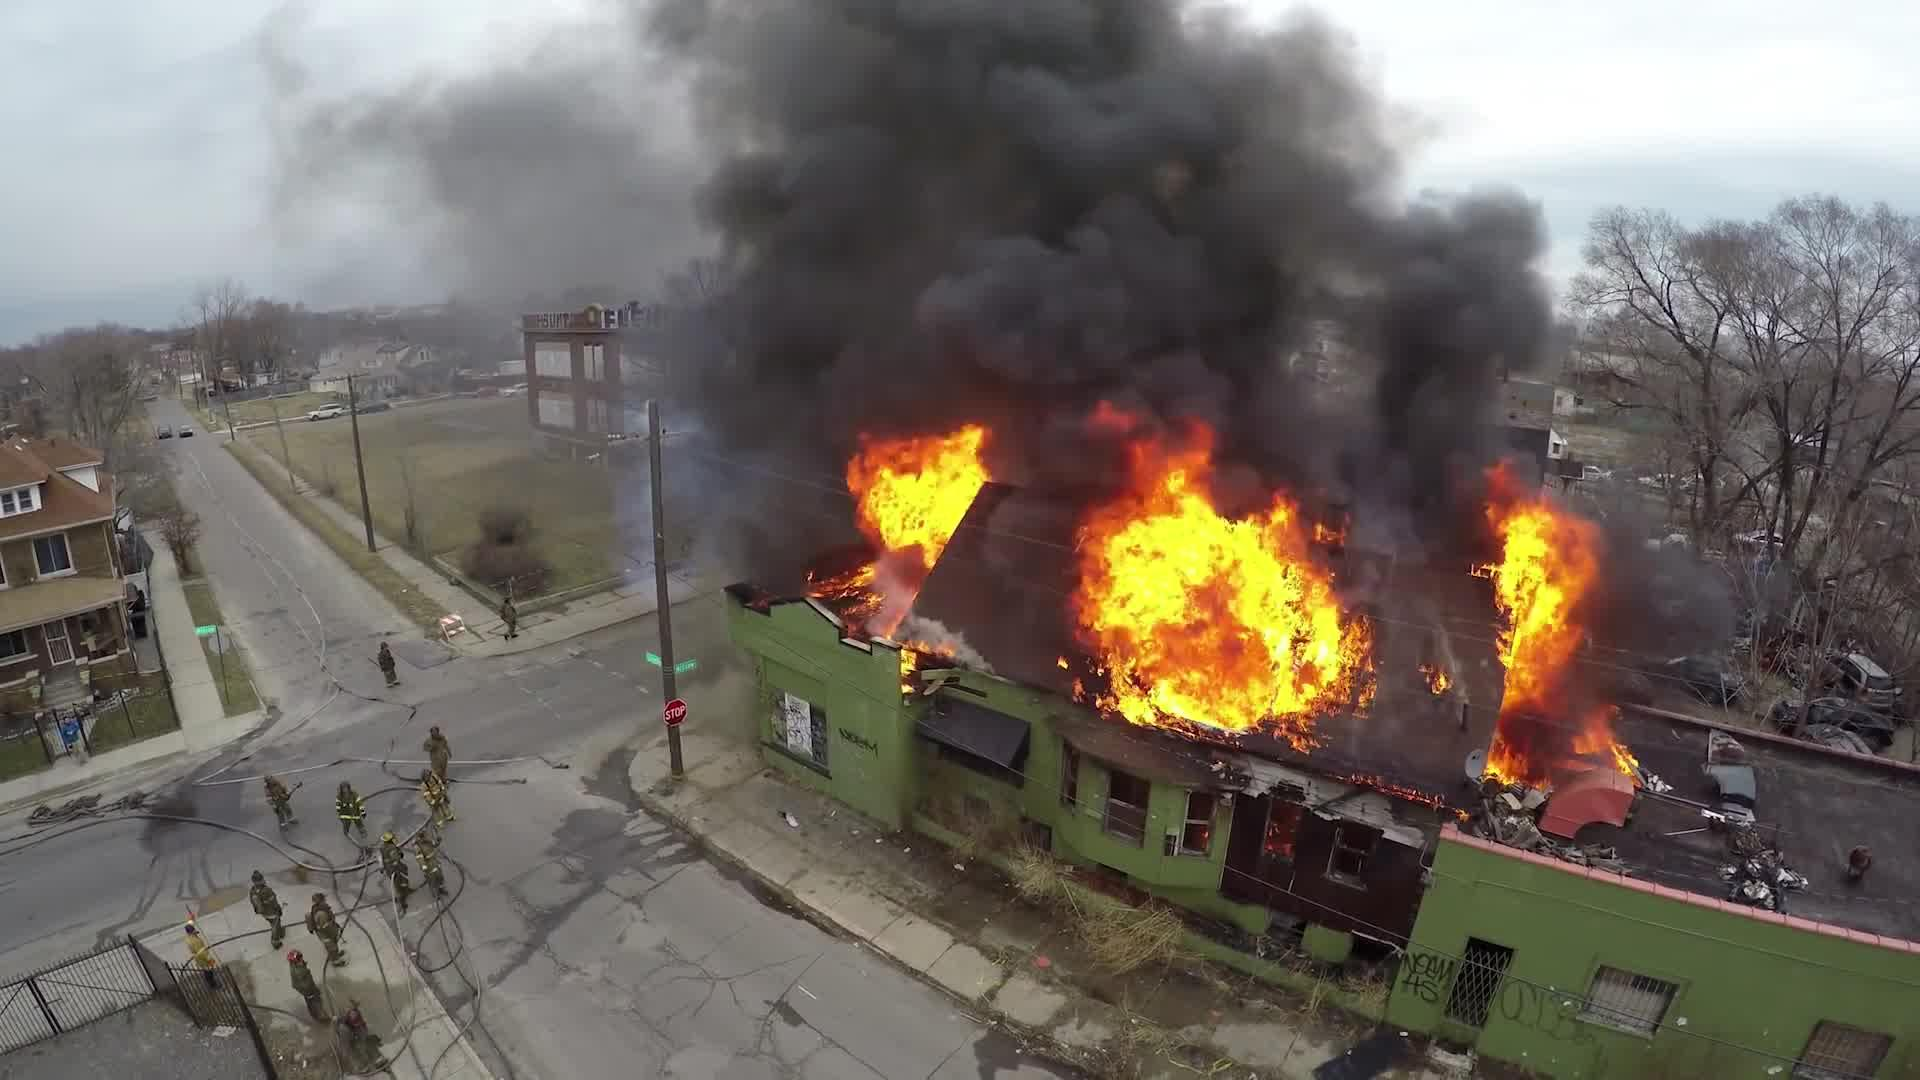fire: (1090, 520, 1337, 723), (1493, 511, 1581, 703), (871, 440, 983, 549)
smoke: (783, 13, 1261, 407), (1300, 177, 1517, 494)
